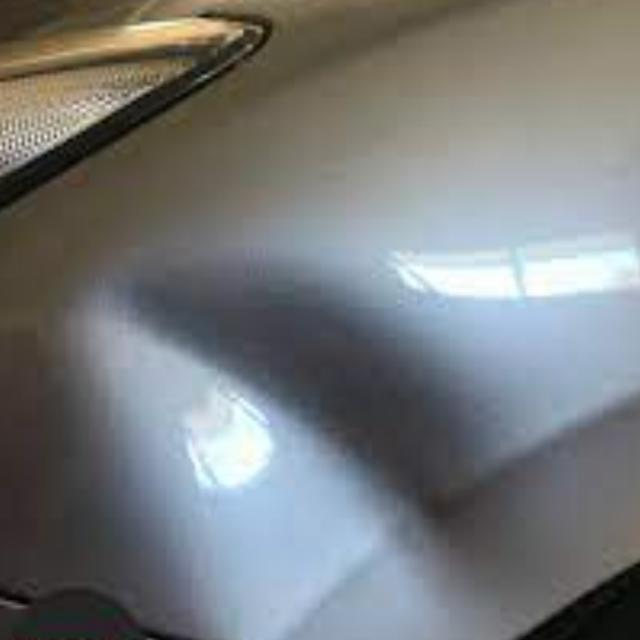dents: (115, 239, 500, 577)
